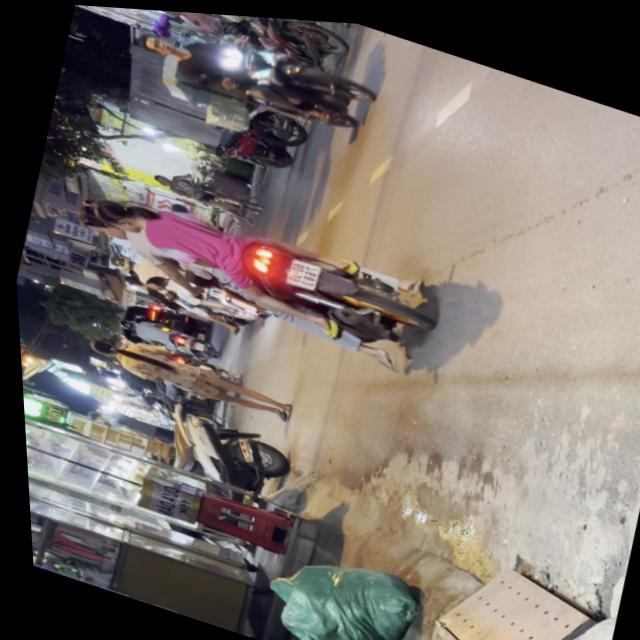licenseplate: (55, 162, 439, 370), (130, 7, 380, 136)
motorcyclist: (86, 190, 147, 234), (66, 195, 123, 236), (139, 28, 180, 56)
nohelmet: (280, 250, 318, 285)
